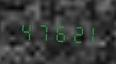four: (18, 17, 33, 42)
one: (82, 21, 97, 46)
seven: (34, 18, 49, 43)
six: (50, 19, 65, 44)
two: (66, 20, 81, 45)
